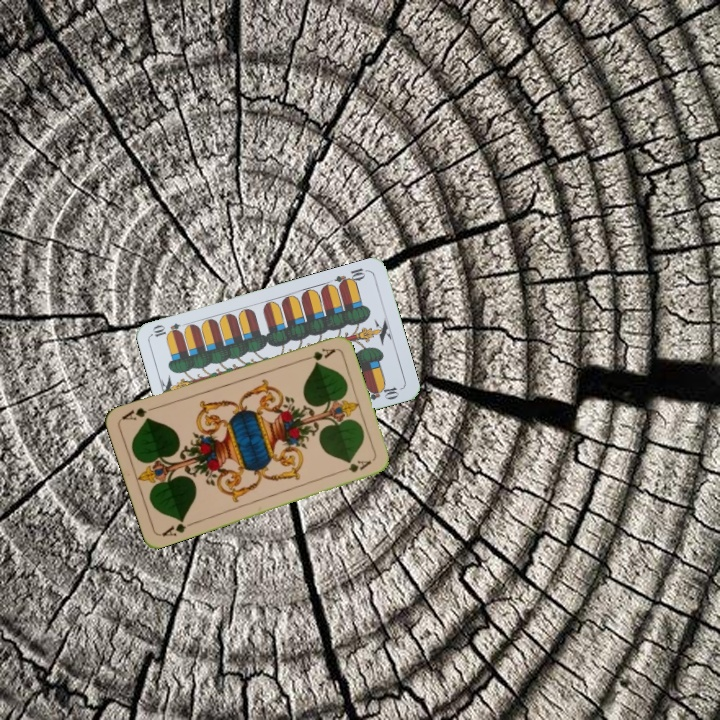E10: (331, 264, 371, 290)
GA: (158, 515, 197, 539), (298, 344, 338, 364)
